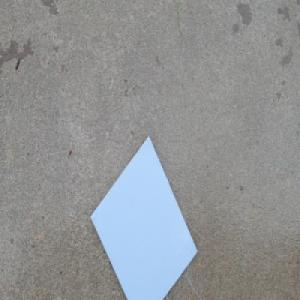PaintChip: (89, 136, 198, 300)
